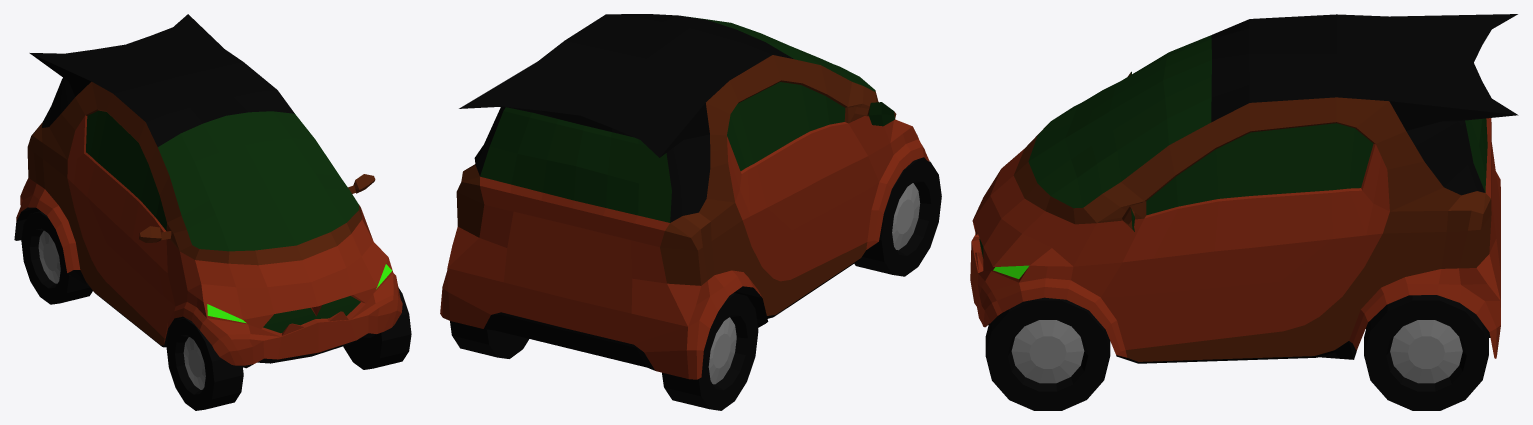
The model's file is Carju_0.fbx.
3 renders of one model, left to right at view 1: azimuth 30°, elevation 25°; view 2: azimuth 150°, elevation 25°; view 3: azimuth 270°, elevation 25°, orthographic. The views are drawn at different scales.
Visible parts, largest first — view 1: Carju_0, Carju_0.008, Carju_0.009, Carju_0.006; view 2: Carju_0, Carju_0.009, Carju_0.008, Carju_0.007; view 3: Carju_0, Carju_0.007, Carju_0.006.
Part boxes in pixels (x1,y1,x2,y2): Carju_0: (14,14,402,368); Carju_0.008: (166,318,243,410); Carju_0.009: (21,211,92,304); Carju_0.006: (343,287,411,369); Carju_0: (440,14,929,379); Carju_0.009: (662,293,758,410); Carju_0.008: (854,159,941,276); Carju_0.007: (450,321,528,358); Carju_0: (970,14,1518,363); Carju_0.007: (1364,295,1488,410); Carju_0.006: (985,297,1110,410).
Size of the model in its own units: 144 by 132 by 223.
